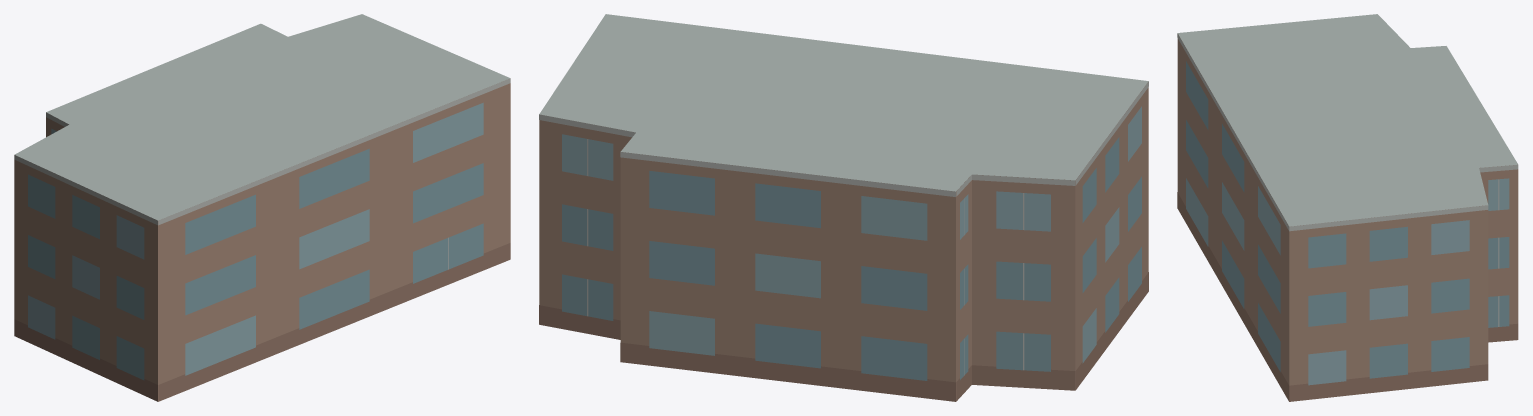
The model's file is survey-upis-32476243.glb.
3 views of the same model, side by side, from view 1: azimuth 30°, elevation 25°; view 2: azimuth 150°, elevation 25°; view 3: azimuth 270°, elevation 25° (orthographic). The views are drawn at different scales.
Visible parts, largest first — view 1: survey-upis-32476243.tmp; view 2: survey-upis-32476243.tmp; view 3: survey-upis-32476243.tmp.
Boxes of the visible parts, box(x1,y1,x2,y2) form: survey-upis-32476243.tmp: box(14, 14, 510, 401); survey-upis-32476243.tmp: box(539, 14, 1148, 401); survey-upis-32476243.tmp: box(1177, 14, 1518, 401).
Bounding box in the file's own units: 23.81 × 9.15 × 16.14.
